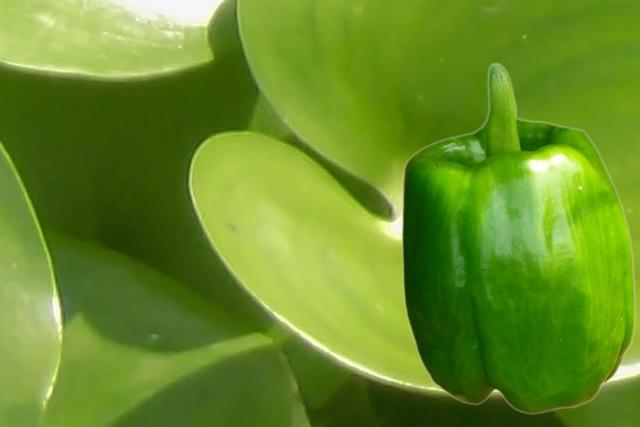bell_pepper: (400, 62, 635, 414)
